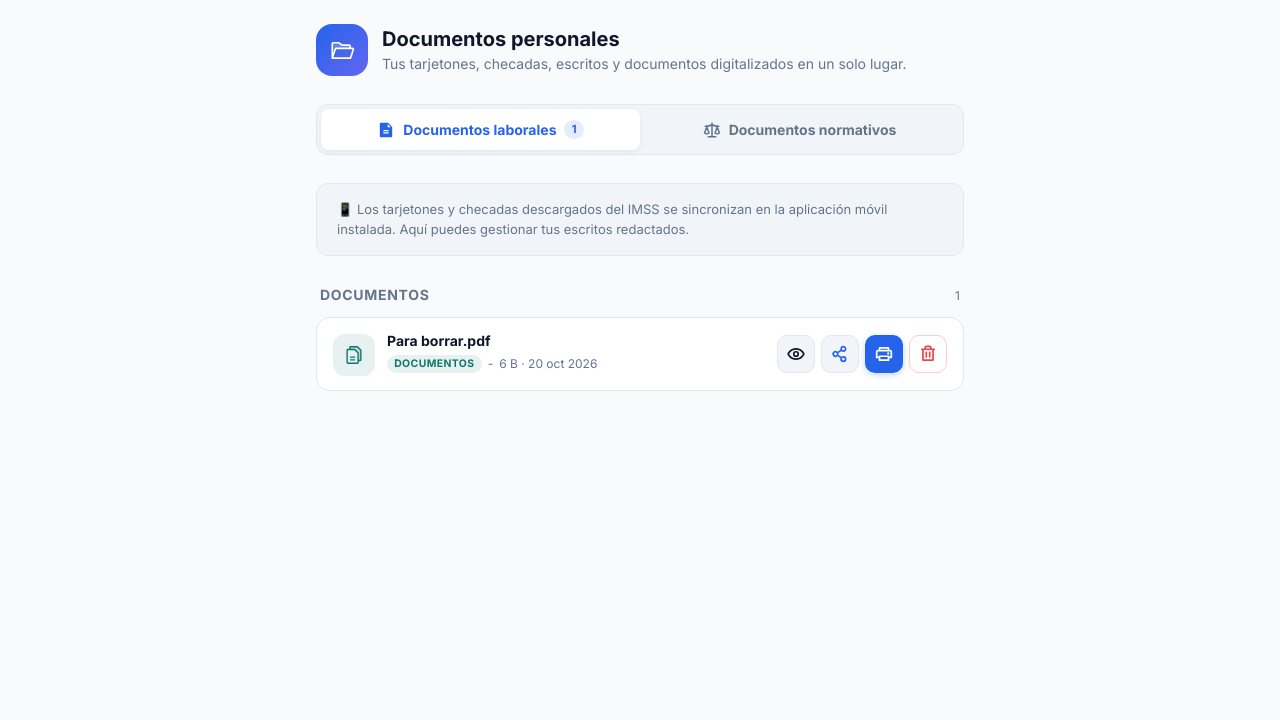
Test: Documentos personales + módulo de digitalización › elimina un documento escaneado con confirmación y lo purga del almacenamiento
The image size is (1280, 720).
Check: the text "Para borrar.pdf" is shown, box [387, 332, 490, 349]
Click the button named "Eliminar documento" at (928, 354), box [909, 335, 947, 373]
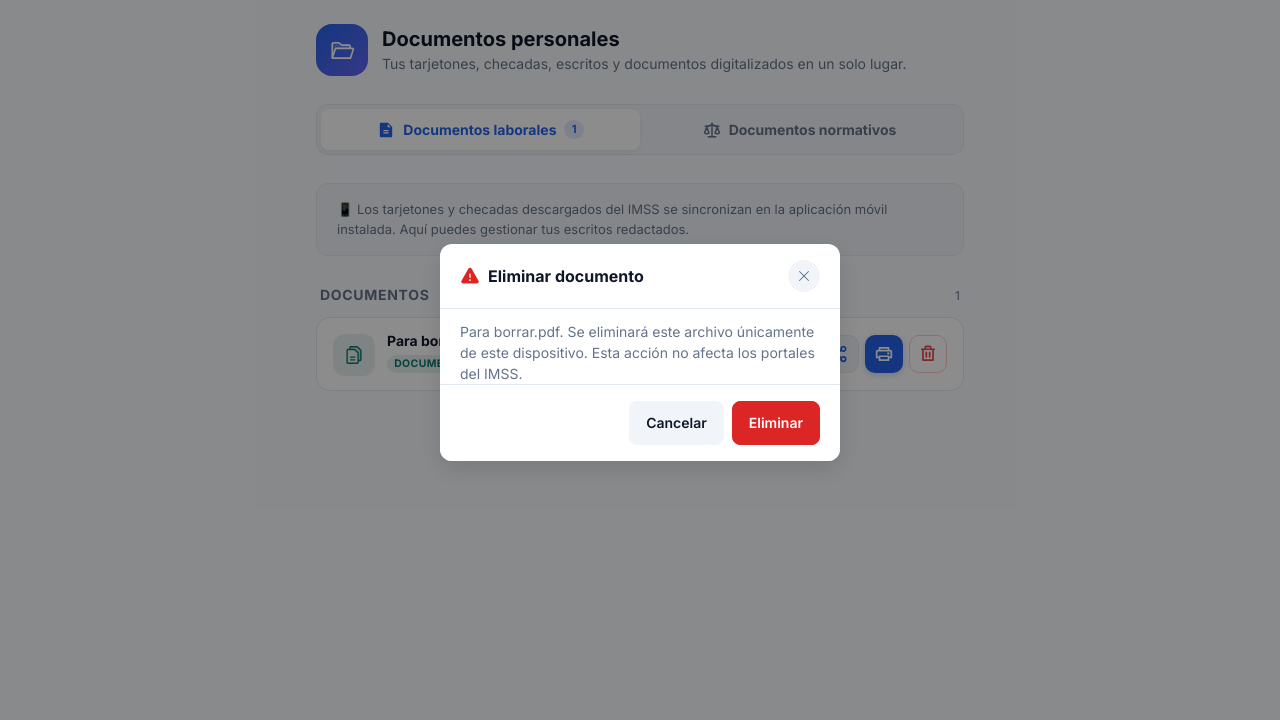
Check: the text "Eliminar documento" is shown, box [460, 264, 644, 288]
Click the button "Eliminar" at (776, 423), box [732, 401, 820, 445]
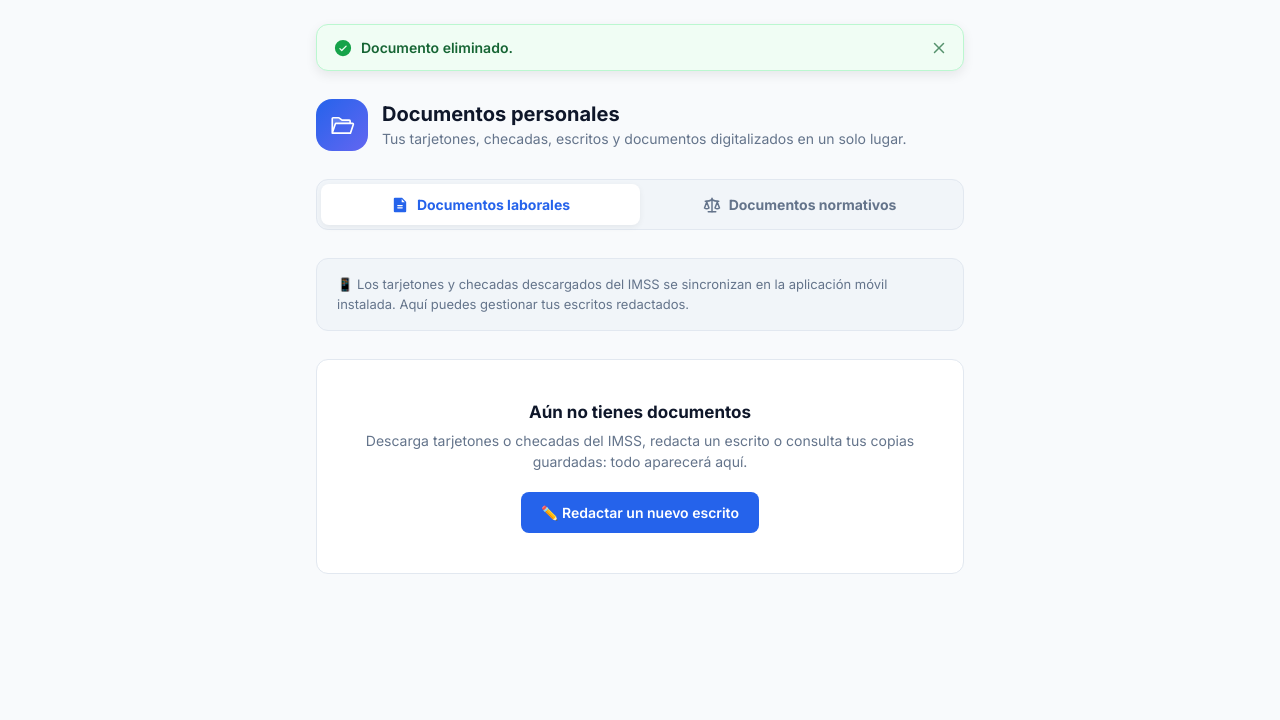
Check: the text "Para borrar.pdf" is gone
